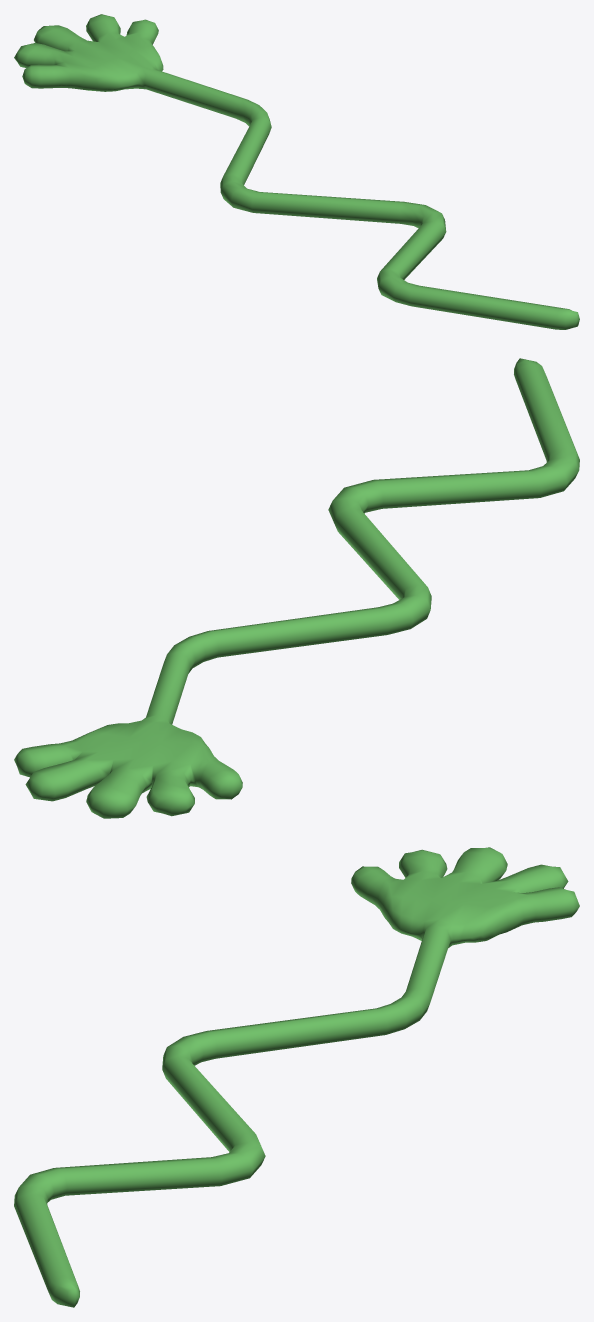
File: Prize_GooeyHands_A.fbx
3 renders of one model, top to bottom at view 1: azimuth 30°, elevation 25°; view 2: azimuth 150°, elevation 25°; view 3: azimuth 330°, elevation 25°, orthographic. The views are drawn at different scales.
Parts seen in each view (by area): view 1: BaytekMall_GooeyHands_A; view 2: BaytekMall_GooeyHands_A; view 3: BaytekMall_GooeyHands_A.
Part boxes in pixels (x1=…): BaytekMall_GooeyHands_A: x1=14, y1=14, x2=579, y2=329; BaytekMall_GooeyHands_A: x1=14, y1=358, x2=579, y2=818; BaytekMall_GooeyHands_A: x1=14, y1=847, x2=579, y2=1307.
Size of the model in its own units: 13.09 by 1.38 by 56.42.
